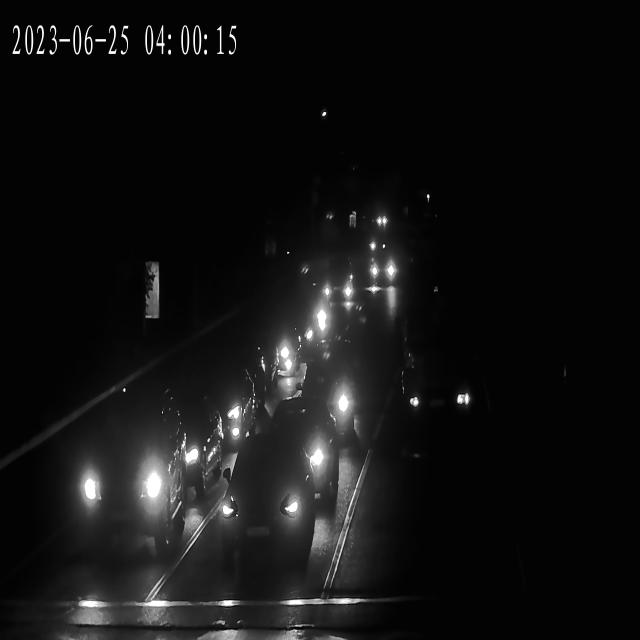Car: (61, 409, 190, 536), (214, 452, 318, 574), (397, 313, 477, 437), (165, 366, 265, 455), (151, 399, 230, 501), (299, 368, 359, 439), (238, 322, 306, 381), (278, 306, 330, 351), (316, 272, 355, 306), (366, 258, 398, 290), (363, 237, 387, 258), (368, 214, 386, 231), (371, 214, 390, 230)
